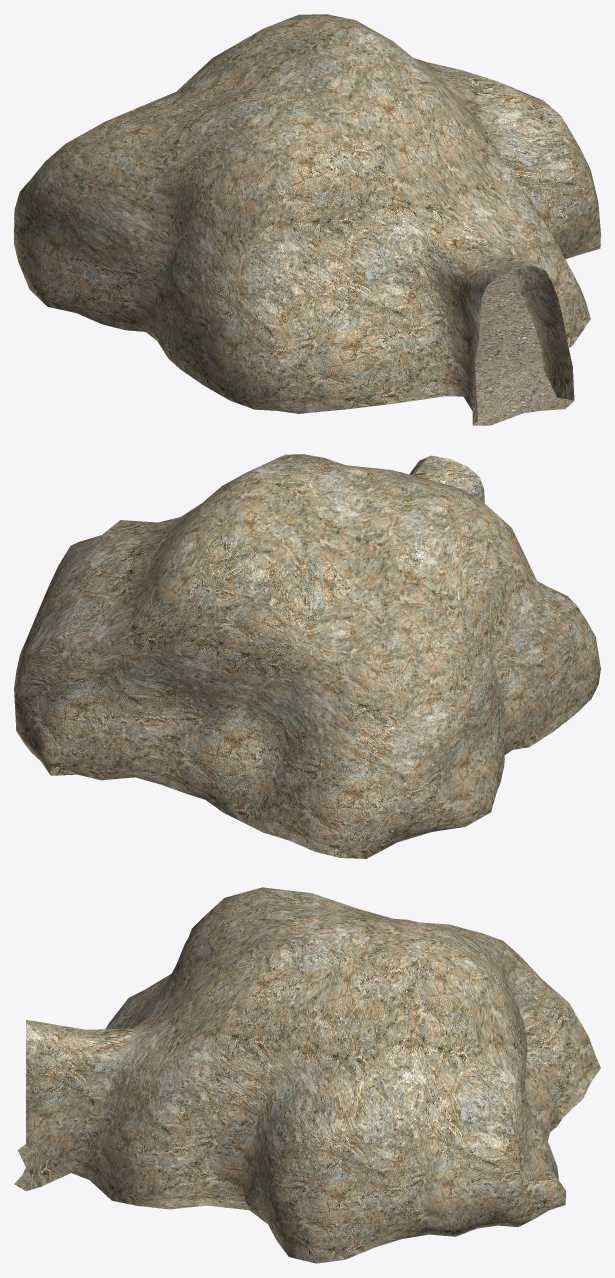
File: poi_all_lair_cave_small_light_r1_mesh_r1.fbx
3 views of the same model, one above another, from view 1: azimuth 30°, elevation 25°; view 2: azimuth 150°, elevation 25°; view 3: azimuth 270°, elevation 25° (orthographic). The views are drawn at different scales.
Visible parts, largest first — view 1: mesh_node; view 2: mesh_node; view 3: mesh_node.
Boxes of the visible parts, box(x1,y1,x2,y2) form: mesh_node: box(14, 14, 600, 425); mesh_node: box(14, 454, 600, 858); mesh_node: box(14, 887, 600, 1263).
Size of the model in its own units: 19.24 by 9.48 by 20.86.
